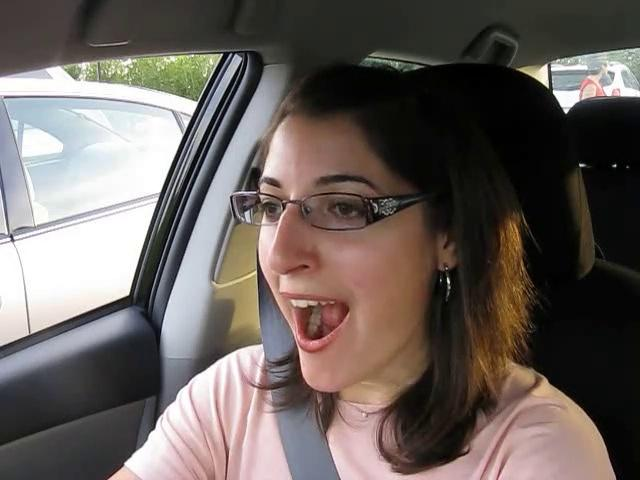open_eyeL: (231, 187, 298, 231)
open_eyeR: (305, 187, 388, 239)
yawn: (270, 283, 370, 362)
